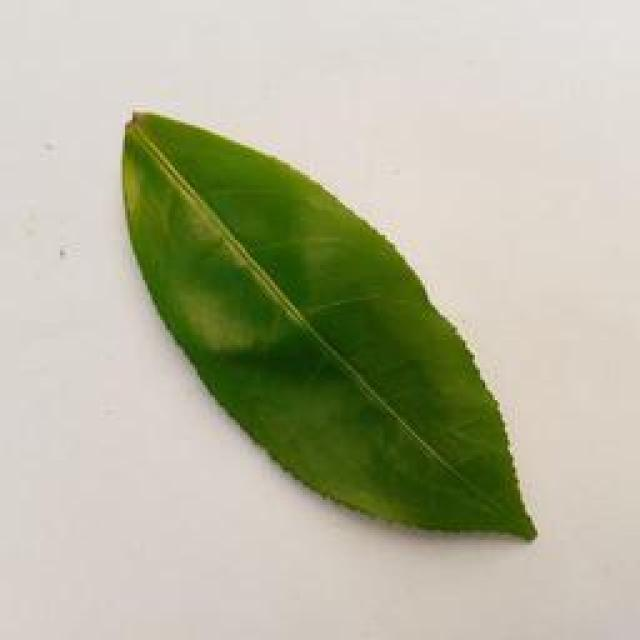Healthy: (112, 104, 542, 550)
